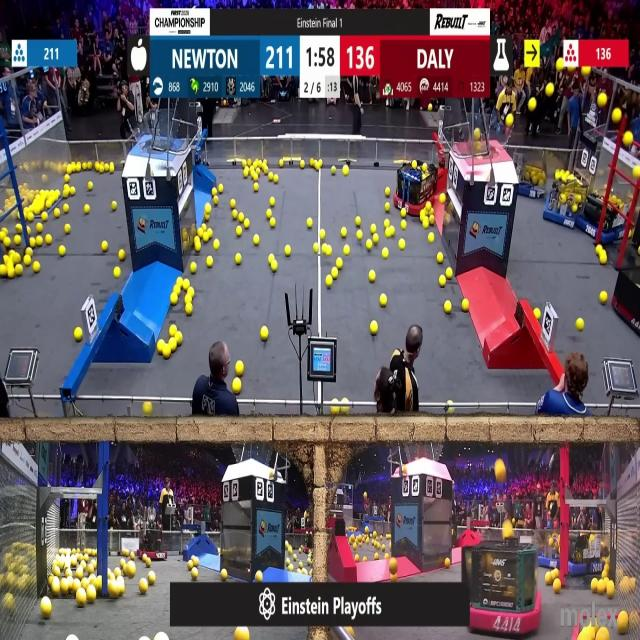ball_airborne: (494, 458, 506, 483), (502, 518, 513, 539), (611, 108, 622, 124), (597, 92, 608, 108), (622, 132, 633, 146), (505, 113, 514, 128), (545, 84, 554, 97), (528, 97, 536, 111), (556, 59, 564, 70), (634, 165, 640, 178), (582, 67, 590, 76), (474, 128, 480, 140), (474, 142, 480, 152)
ball_ground: (232, 377, 242, 395), (330, 398, 340, 413), (340, 397, 349, 412), (74, 326, 83, 341), (236, 360, 244, 376), (156, 339, 165, 353), (162, 344, 171, 358), (142, 402, 152, 414), (576, 317, 584, 331), (194, 236, 201, 252), (438, 274, 446, 287), (325, 274, 333, 287), (260, 327, 268, 340), (168, 338, 176, 351), (12, 252, 21, 263), (379, 293, 386, 307), (370, 320, 377, 334), (187, 286, 194, 300), (445, 267, 453, 279), (368, 269, 375, 282), (185, 294, 192, 307), (270, 258, 277, 271), (436, 252, 444, 263), (170, 294, 178, 305), (118, 249, 126, 260), (58, 245, 66, 256), (32, 261, 40, 272), (14, 264, 22, 275), (600, 292, 607, 304), (444, 300, 451, 312), (422, 214, 428, 228), (331, 267, 338, 279), (176, 331, 182, 345), (183, 278, 190, 290), (206, 256, 213, 268), (213, 238, 220, 250), (173, 284, 181, 294), (44, 234, 52, 244), (366, 238, 372, 251), (595, 244, 602, 255), (398, 239, 405, 250), (170, 324, 177, 335), (235, 253, 242, 264), (253, 234, 260, 245), (428, 231, 434, 243), (190, 262, 196, 274), (268, 252, 274, 264), (284, 244, 290, 256), (0, 264, 6, 276), (342, 165, 349, 175), (340, 227, 347, 237), (236, 226, 243, 236), (72, 162, 79, 172), (600, 252, 606, 263), (462, 299, 468, 310), (344, 244, 350, 255), (336, 257, 342, 268), (63, 185, 69, 196), (54, 207, 60, 218), (7, 267, 14, 276), (534, 308, 540, 318), (382, 248, 388, 258), (354, 216, 360, 226), (186, 304, 192, 314), (205, 229, 210, 241), (114, 267, 120, 277), (102, 241, 108, 251), (36, 222, 42, 232), (14, 234, 20, 244), (46, 198, 52, 208), (26, 212, 33, 220), (266, 208, 271, 219), (3, 253, 8, 264), (384, 187, 390, 196), (356, 230, 362, 239), (326, 245, 332, 254), (306, 219, 312, 228), (176, 276, 182, 285), (238, 212, 244, 221), (230, 199, 236, 208), (64, 224, 70, 233), (42, 212, 48, 221), (36, 236, 42, 245), (24, 256, 30, 265), (100, 161, 106, 170), (373, 234, 378, 244), (321, 243, 326, 253), (273, 173, 278, 183), (30, 237, 35, 247), (400, 220, 406, 228), (384, 219, 390, 227), (246, 158, 252, 166), (256, 159, 262, 167), (84, 205, 90, 213), (4, 237, 10, 245), (555, 170, 560, 179), (401, 208, 406, 217), (385, 227, 390, 236), (371, 224, 376, 233), (331, 165, 336, 174), (244, 219, 249, 228), (232, 210, 237, 219), (218, 183, 223, 192), (205, 203, 210, 212), (197, 228, 202, 237), (243, 168, 248, 177), (16, 223, 21, 232), (316, 160, 322, 167), (26, 248, 32, 255), (385, 203, 390, 211), (390, 226, 394, 236), (320, 229, 324, 239), (270, 219, 275, 227), (270, 197, 275, 205), (254, 181, 258, 191), (64, 174, 69, 182), (70, 187, 75, 195), (63, 204, 68, 212), (66, 165, 71, 173), (99, 164, 104, 172), (105, 162, 110, 170), (420, 212, 424, 221), (314, 243, 318, 252), (300, 159, 304, 168), (214, 196, 218, 205), (112, 201, 116, 210), (88, 181, 92, 190), (96, 162, 100, 171), (309, 158, 314, 165), (204, 213, 209, 220), (55, 189, 60, 196), (430, 215, 434, 223), (279, 158, 283, 166), (268, 172, 272, 180), (110, 164, 114, 172), (76, 163, 80, 171), (40, 189, 45, 195), (212, 188, 216, 195), (256, 167, 260, 174), (82, 162, 86, 169), (88, 162, 92, 169), (242, 159, 246, 165), (264, 158, 268, 164)
goal: (460, 114, 512, 156), (128, 113, 182, 147)
robot_blue: (578, 188, 628, 242), (566, 526, 604, 579), (545, 177, 582, 227), (513, 149, 547, 202), (536, 528, 566, 568)
robot_red: (464, 540, 542, 636), (394, 157, 438, 215), (139, 521, 169, 563)
